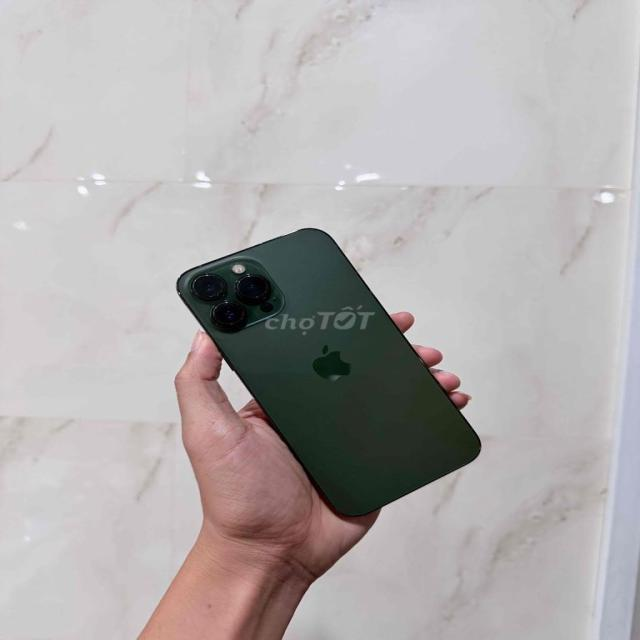gen_12_13: (167, 225, 484, 520)
